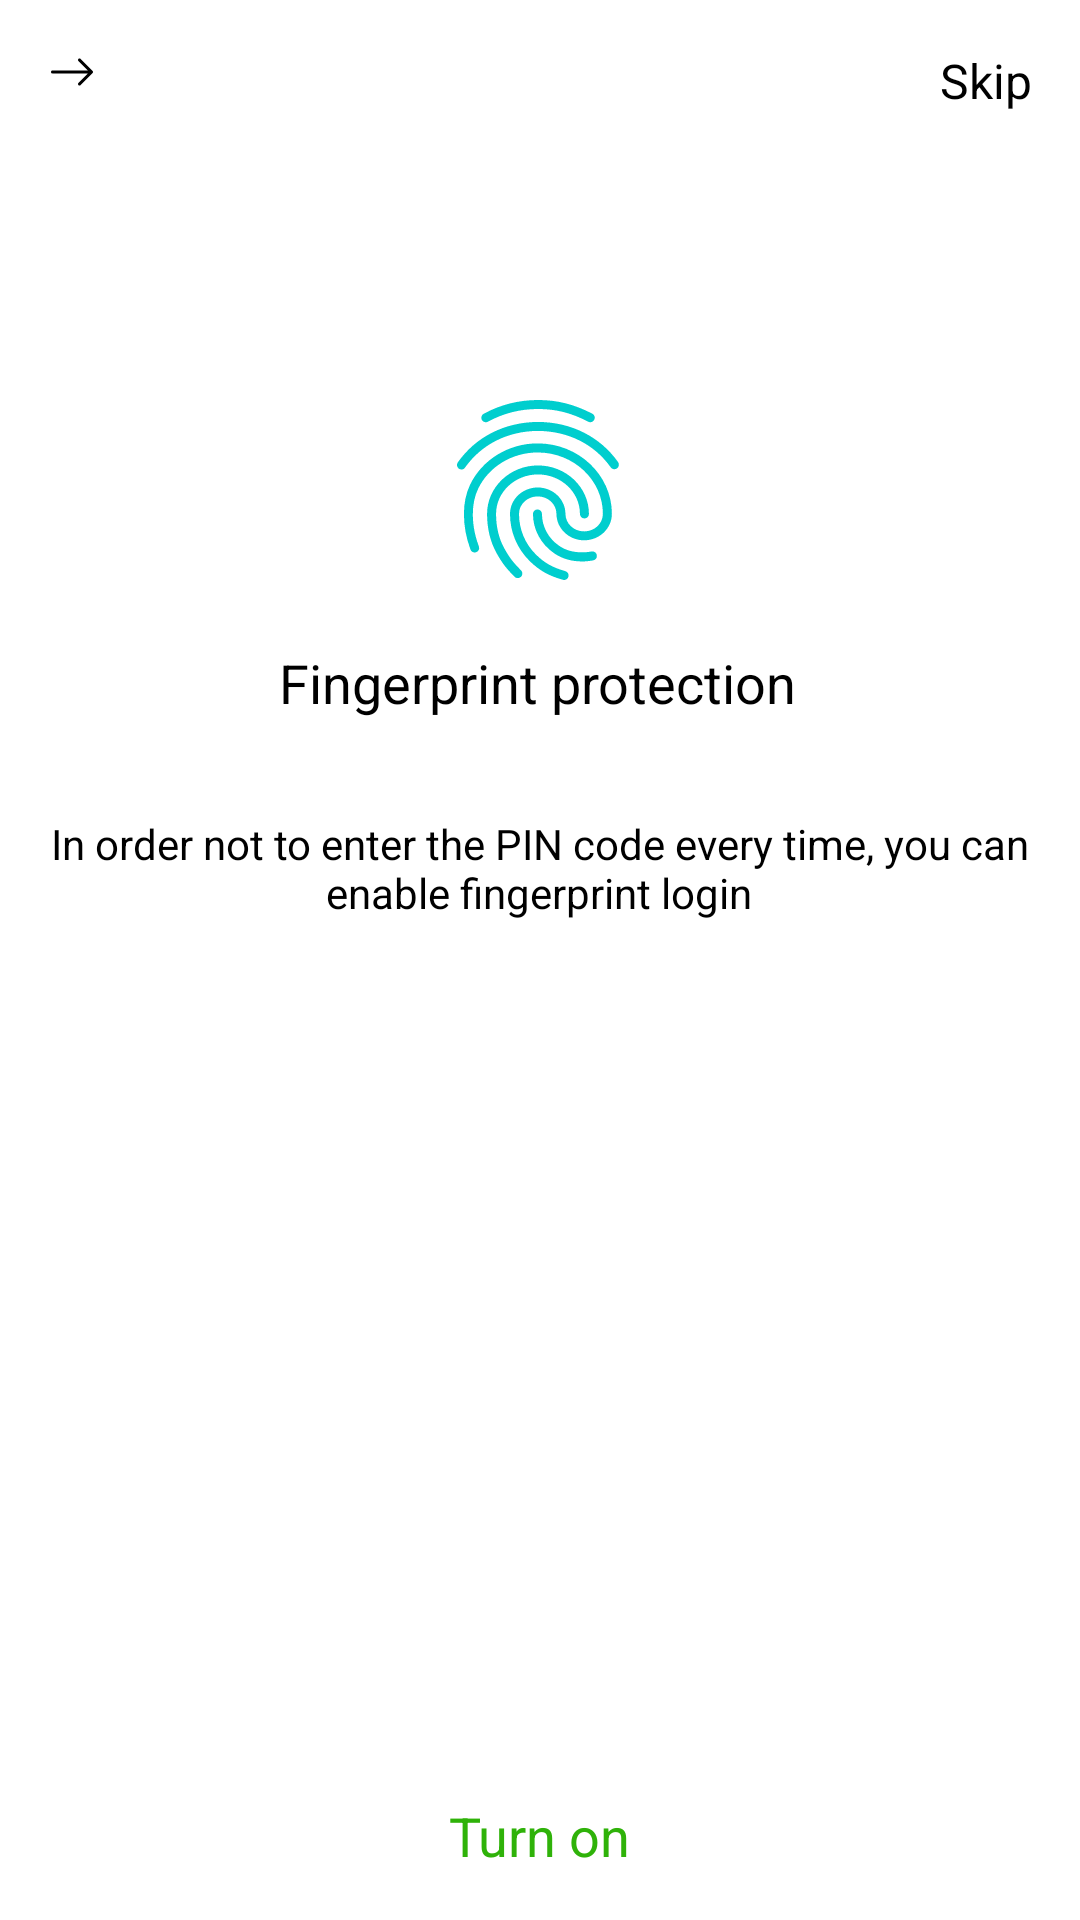

Screen size 1080w x 1920h. Icon name, then its box in pixels as (x1, y1, x2, y2):
next: (51, 58, 93, 86)
